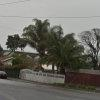Palm tree: (24, 12, 73, 66)
